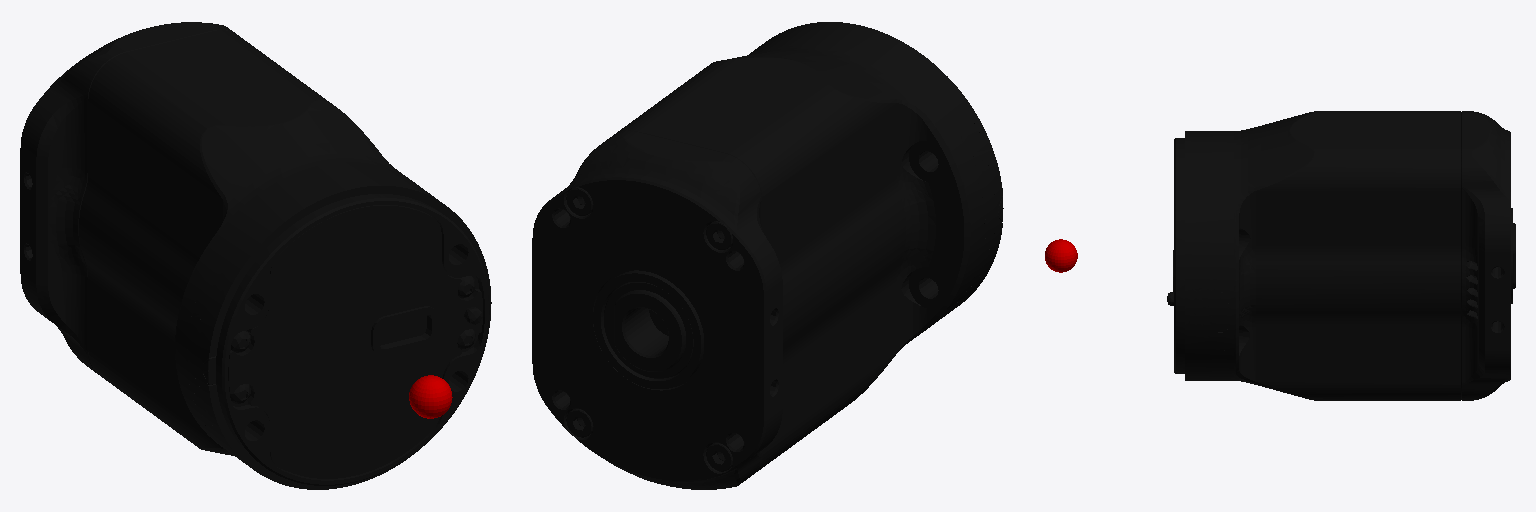
The robot description file, URDF, robot "robotiq_vacuum_gripper":
<?xml version="1.0" ?>
<!-- =================================================================================== -->
<!-- |    This document was autogenerated by xacro from [local-path]/catkin_ws/src/robotiq_2finger_grippers/robotiq_vacuum_gripper_description/urdf/epick.urdf.xacro | -->
<!-- |    EDITING THIS FILE BY HAND IS NOT RECOMMENDED                                 | -->
<!-- =================================================================================== -->
<robot name="robotiq_vacuum_gripper">
  <material name="black">
    <color rgba="0.1 0.1 0.1 1.0"/>
  </material>
  <material name="blue">
    <color rgba="0.0 0.0 0.8 1.0"/>
  </material>
  <material name="green">
    <color rgba="0.0 0.8 0.0 1.0"/>
  </material>
  <material name="grey">
    <color rgba="0.2 0.2 0.2 1.0"/>
  </material>
  <material name="orange">
    <color rgba="1.0 0.4235294117647059 0.0392156862745098 1.0"/>
  </material>
  <material name="brown">
    <color rgba="0.8705882352941177 0.8117647058823529 0.7647058823529411 1.0"/>
  </material>
  <material name="red">
    <color rgba="0.8 0.0 0.0 1.0"/>
  </material>
  <material name="white">
    <color rgba="1.0 1.0 1.0 1.0"/>
  </material>
  <material name="metal">
    <color rgba="0.768627450980392 0.749019607843137 0.729411764705882 1"/>
  </material>
  <material name="metal_grey">
    <color rgba="0.501960784313725 0.501960784313725 0.501960784313725 1"/>
  </material>
  <material name="metal_white">
    <color rgba="0.866666666666667 0.866666666666667 0.890196078431373 1"/>
  </material>
  <link name="robotiq_vacuum_gripper_link"/>
  <joint name="robotiq_vacuum_gripper_joint" type="fixed">
    <parent link="robotiq_vacuum_gripper_link"/>
    <child link="robotiq_vacuum_base_link"/>
  </joint>
  <link name="robotiq_vacuum_base_link">
    <visual>
      <origin rpy="0 0 0" xyz="0.0 0.0 0.0"/>
      <geometry>
        <mesh filename="package://robotiq_vacuum_gripper_description/urdf/meshes/epick.stl" scale="0.001 0.001 0.001"/>
      </geometry>
      <material name="black"/>
    </visual>
    <collision>
      <origin rpy="0 0 0" xyz="0.0 0.0 0.0"/>
      <geometry>
        <mesh filename="package://robotiq_vacuum_gripper_description/urdf/meshes/epick.stl" scale="0.001 0.001 0.001"/>
      </geometry>
    </collision>
  </link>
  <joint name="robotiq_vacuum_gripper_assembly_joint" type="fixed">
    <parent link="robotiq_vacuum_base_link"/>
    <child link="robotiq_vacuum_gripper_assembly_link"/>
    <origin rpy="0 0 0" xyz="0 -0.101 0"/>
  </joint>
  <link name="robotiq_vacuum_gripper_assembly_link"/>
  <joint name="robotiq_vacuum_gripper_suction_joint" type="fixed">
    <parent link="robotiq_vacuum_gripper_assembly_link"/>
    <child link="robotiq_vacuum_gripper_suction_point"/>
    <origin rpy="0 0 0" xyz="0 -0.028 0"/>
  </joint>
  <link name="robotiq_vacuum_gripper_suction_point">
    <visual>
      <origin rpy="0 0 0" xyz="0.0 0.0 0.0"/>
      <geometry>
        <sphere radius="0.005"/>
      </geometry>
      <material name="red"/>
    </visual>
  </link>
</robot>

--- What the picture shows (computed from the rendered views, not written in the file) ---
The picture shows the robot from 3 angles, left to right: view 1: azimuth 30°, elevation 25°; view 2: azimuth 150°, elevation 25°; view 3: azimuth 270°, elevation 25°; orthographic projection.
Model robotiq_vacuum_gripper with 4 links and 3 joints (3 fixed), rooted at robotiq_vacuum_gripper_link, posed all joints at 0.
Visible links, largest first — view 1: robotiq_vacuum_base_link, robotiq_vacuum_gripper_suction_point; view 2: robotiq_vacuum_base_link; view 3: robotiq_vacuum_base_link, robotiq_vacuum_gripper_suction_point.
Boxes of the visible links, <box> form: robotiq_vacuum_base_link: <box>20,22,491,489</box>; robotiq_vacuum_gripper_suction_point: <box>409,375,452,418</box>; robotiq_vacuum_base_link: <box>532,22,1003,489</box>; robotiq_vacuum_base_link: <box>1167,111,1515,400</box>; robotiq_vacuum_gripper_suction_point: <box>1045,239,1077,272</box>.
Size in the robot's own frame: 0.075 by 0.1413 by 0.083 metres.
Meshes: 1 distinct files referenced, 1 mesh visuals loaded (1 binary STL).